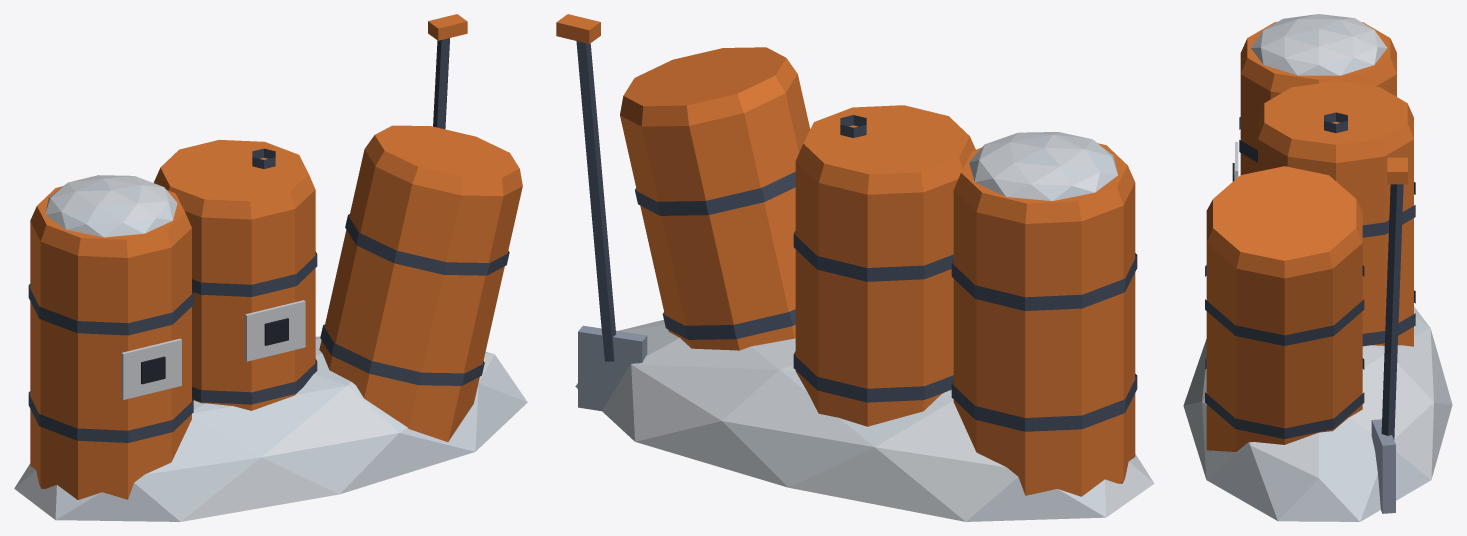
File: kit-arctic-decor-2.glb
The picture shows the model from 3 angles, left to right: view 1: azimuth 30°, elevation 25°; view 2: azimuth 150°, elevation 25°; view 3: azimuth 270°, elevation 25°; orthographic projection. The views are drawn at different scales.
Parts seen in each view (by area): view 1: kit-arctic-decor-2; view 2: kit-arctic-decor-2; view 3: kit-arctic-decor-2.
Part boxes in pixels (left/top/right/bottom): kit-arctic-decor-2: left=14, top=14, right=527, bottom=521; kit-arctic-decor-2: left=556, top=14, right=1154, bottom=521; kit-arctic-decor-2: left=1183, top=14, right=1452, bottom=521.
Size of the model in its own units: 1.61 by 1.17 by 0.7867.
